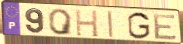9: (23, 7, 46, 35)
E: (153, 14, 179, 41)
G: (126, 12, 152, 41)
H: (74, 8, 100, 39)
I: (106, 10, 115, 39)
Q: (47, 9, 75, 37)
